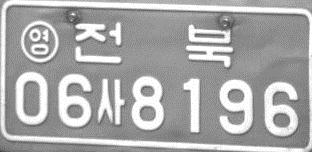0: (13, 70, 49, 126)
1: (176, 76, 210, 132)
6: (56, 72, 94, 129)
7: (262, 82, 299, 137)
8: (130, 74, 165, 131)
9: (219, 77, 255, 136)
사: (96, 78, 126, 126)
영: (19, 19, 59, 64)
전북_D: (72, 21, 233, 68)
